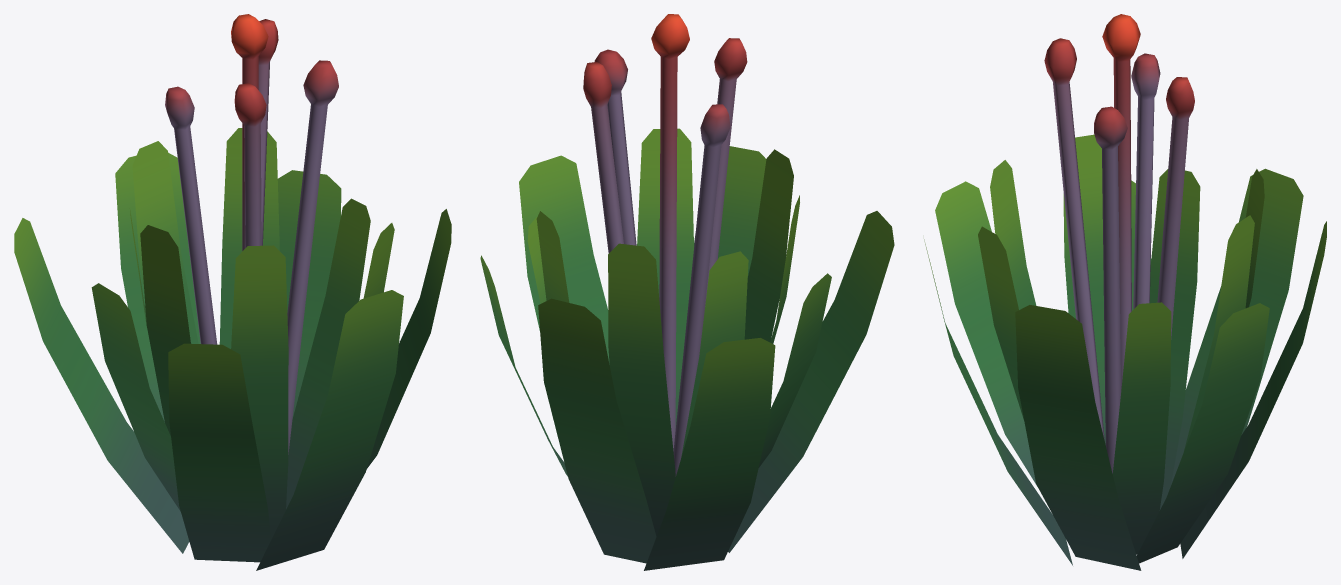
Rendered from flower20.glb.
The picture shows the model from 3 angles, left to right: view 1: azimuth 30°, elevation 25°; view 2: azimuth 150°, elevation 25°; view 3: azimuth 270°, elevation 25°; orthographic projection.
Parts seen in each view (by area): view 1: Flower.027; view 2: Flower.027; view 3: Flower.027.
Part boxes in pixels (x1=…): Flower.027: x1=14, y1=14, x2=451, y2=570; Flower.027: x1=480, y1=14, x2=894, y2=570; Flower.027: x1=924, y1=14, x2=1326, y2=570.
Size of the model in its own units: 1.88 by 2.76 by 1.93.
Materials: 1 (1 with a texture image).
